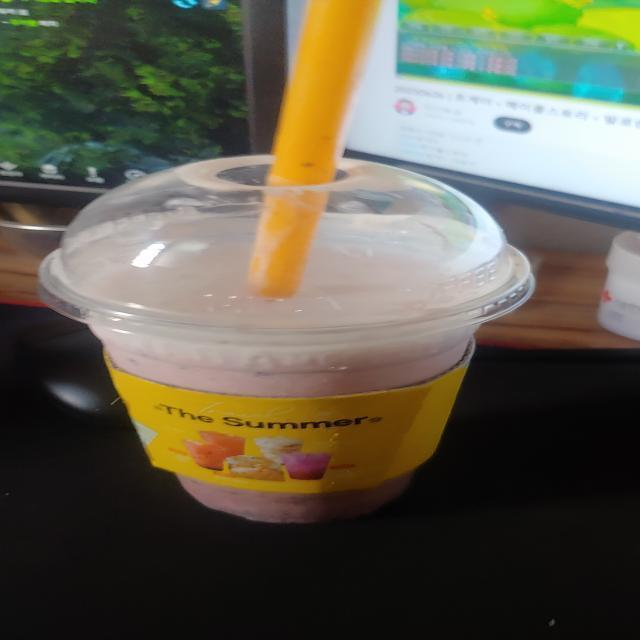cup: (21, 127, 552, 528)
